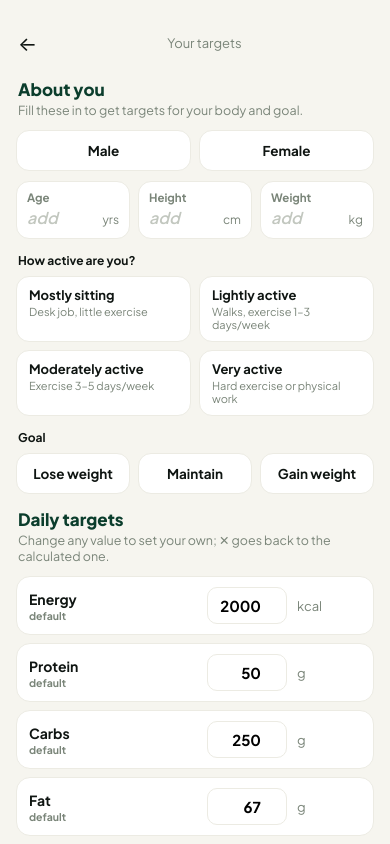
TargetsScreen › updates the preview as soon as one choice is made, labelled estimated
Expected: the number field named "Energy target" holds "2000", left=207, top=587, right=287, bottom=624
What coordinates should you click on to do the following:
click the radio button labelled "Very active Hard exercise or physical work"
I would click on:
 (286, 383)
Its box is left=199, top=350, right=374, bottom=416.
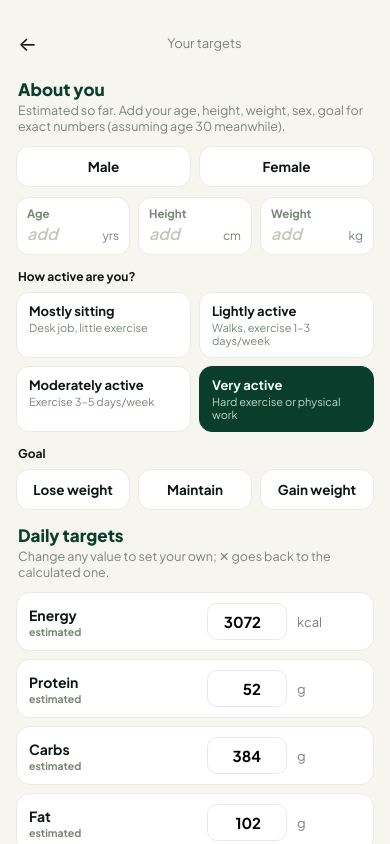
Result: the text "estimated" below "Energy" is shown at left=29, top=624, right=81, bottom=638
Result: the text "Add your age" is shown at left=18, top=102, right=363, bottom=134
